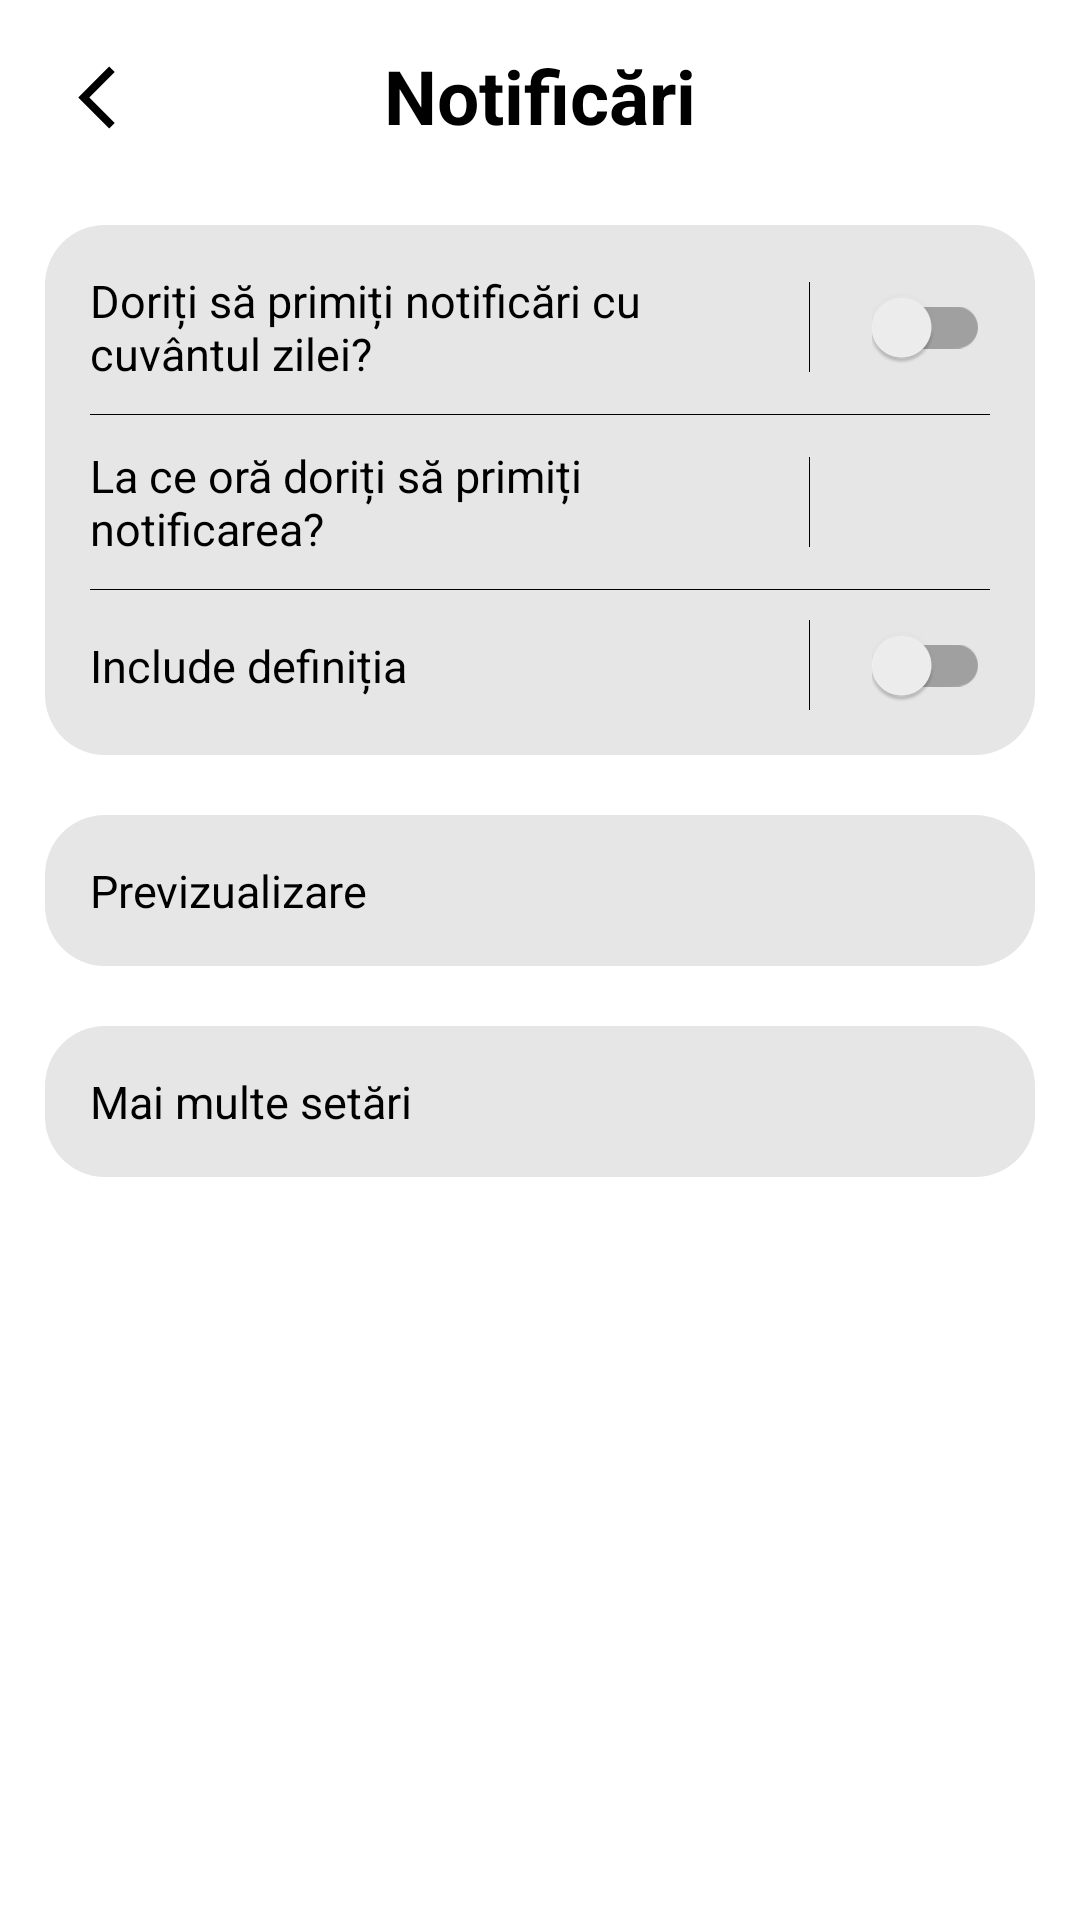

Icons on this 1080w x 1920h Android screen, each with the point to tap as point (x, y):
back: point (96, 97)
